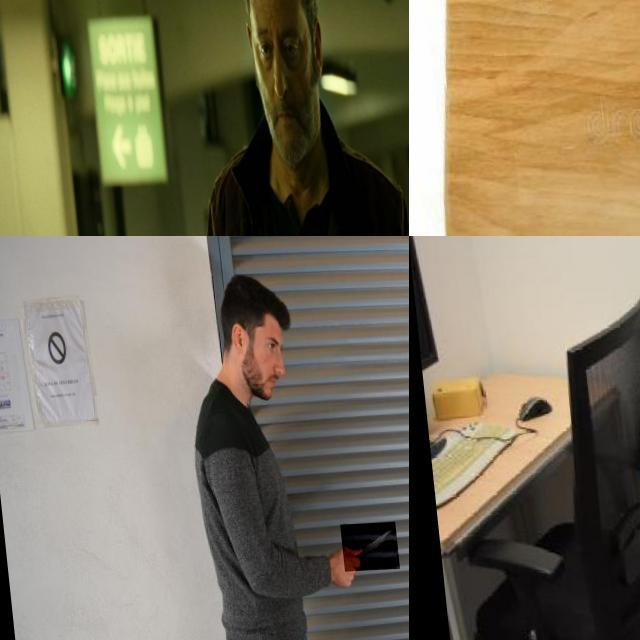-: (333, 526, 392, 575)
